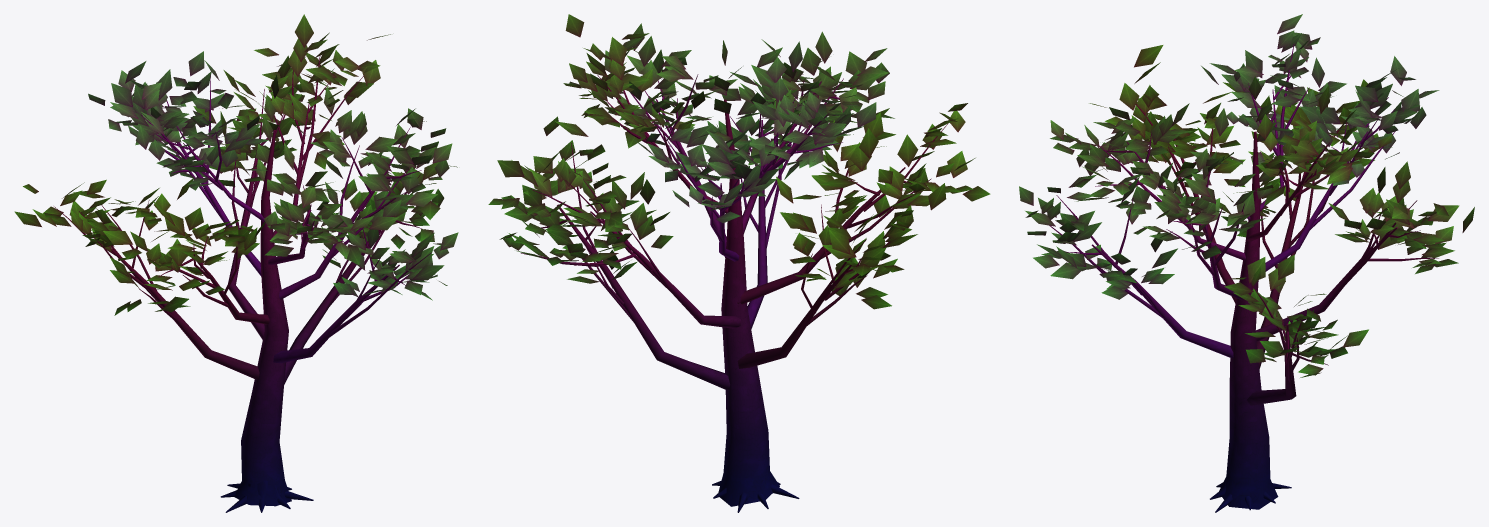
Rendered from field_elm_lod2.glb.
The picture shows the model from 3 angles, left to right: view 1: azimuth 30°, elevation 25°; view 2: azimuth 150°, elevation 25°; view 3: azimuth 270°, elevation 25°; orthographic projection. The views are drawn at different scales.
Parts seen in each view (by area): view 1: field_elm_lod2; view 2: field_elm_lod2; view 3: field_elm_lod2.
Boxes of the visible parts, x1,y1,x2,y2 form: field_elm_lod2: (14, 14, 458, 512); field_elm_lod2: (488, 14, 990, 512); field_elm_lod2: (1019, 14, 1474, 512).
Bounding box in the file's own units: 8.24 × 8.53 × 8.05.
2 materials, 2 textured.
